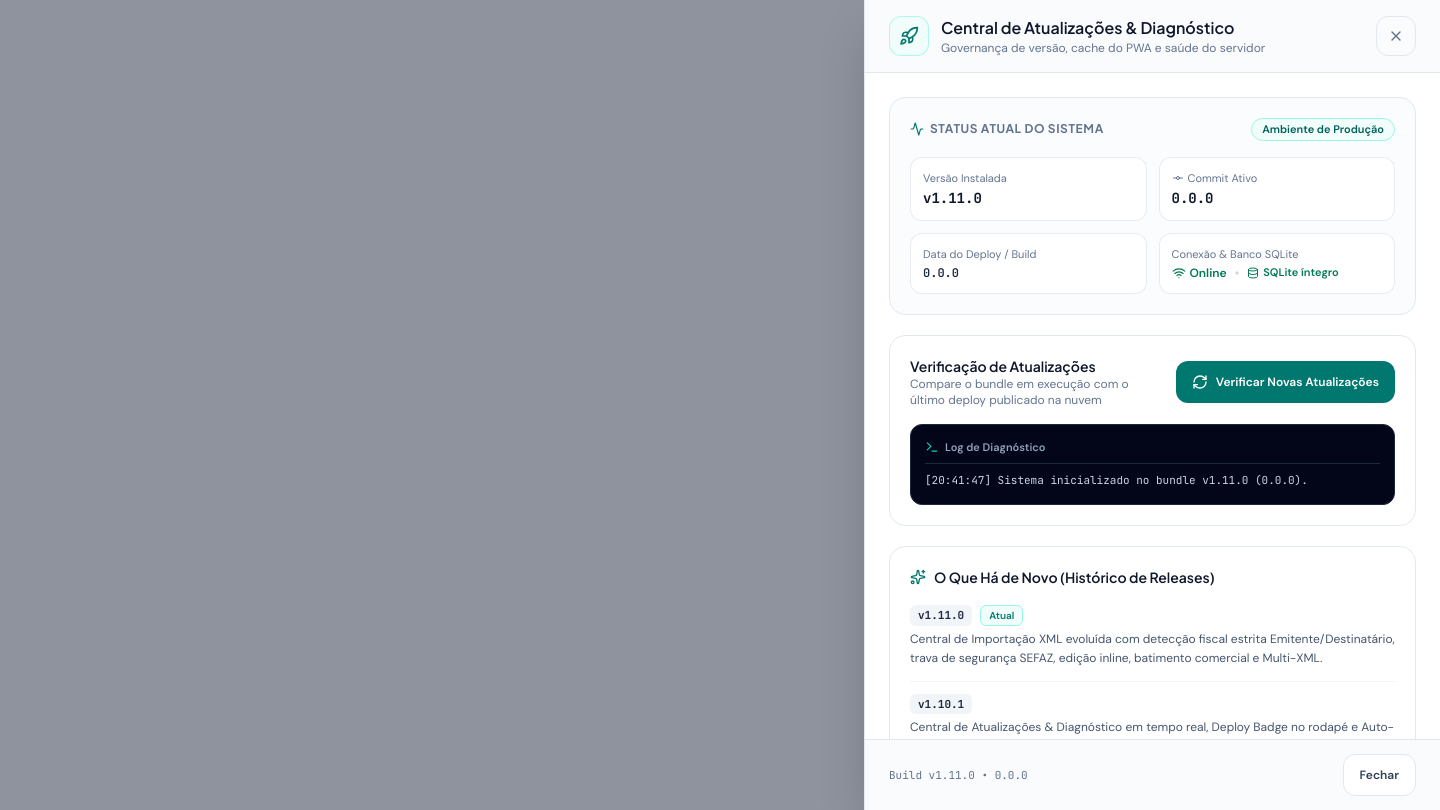
Test: UpdateCenterModal & DeployFooter (Fase 10.1) › consulta /api/version, atualiza o log de diagnóstico e exibe badge de sistema atualizado
What coordinates should you click on to do the following:
click the button with test id "check-updates-button"
I would click on:
 (1285, 382)
Its box is [1176, 360, 1395, 402].
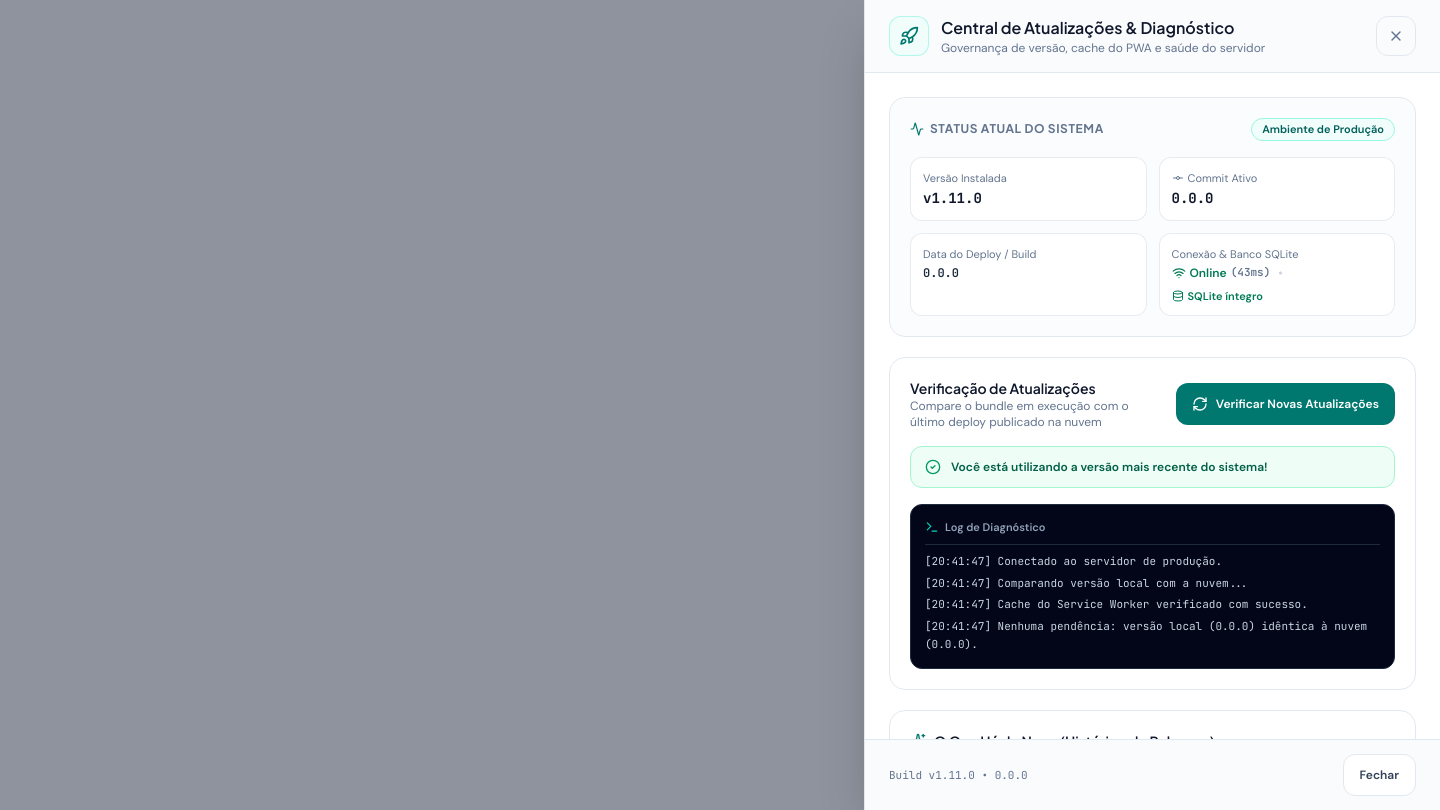
Now the element with test id "up-to-date-badge" reads "Você está utilizando a versão mais recente do sistema!", box [951, 459, 1268, 475]
Now the element with test id "diagnostic-log" shows "Conectado ao servidor de produção.", box [925, 554, 1222, 568]
Now the element with test id "diagnostic-log" shows "Comparando versão local com a nuvem...", box [925, 576, 1248, 590]
